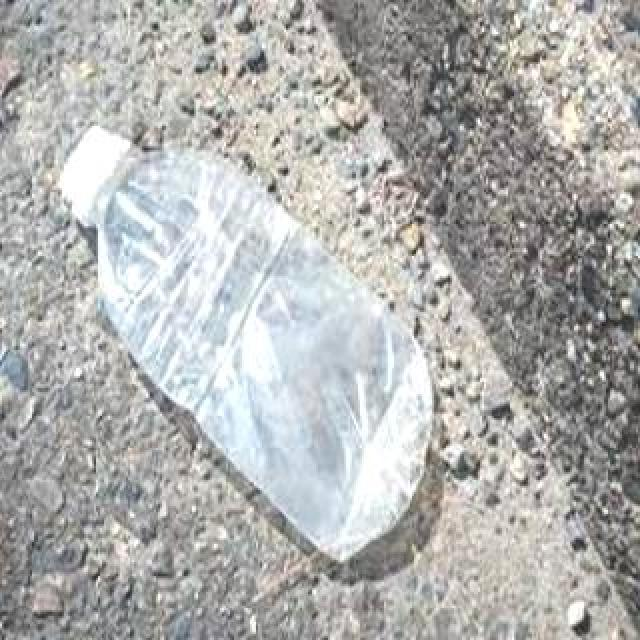Pet_Bottle: (61, 120, 439, 570)
